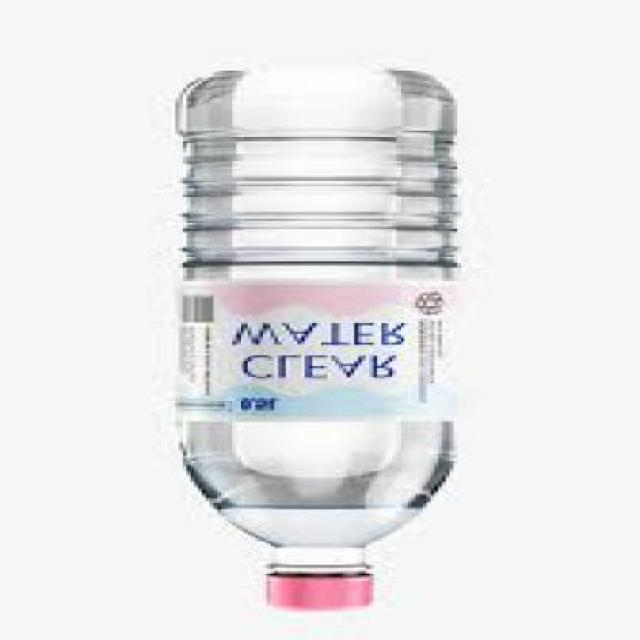PLASTIC: (172, 75, 450, 612), (172, 281, 453, 424), (259, 570, 370, 610)
